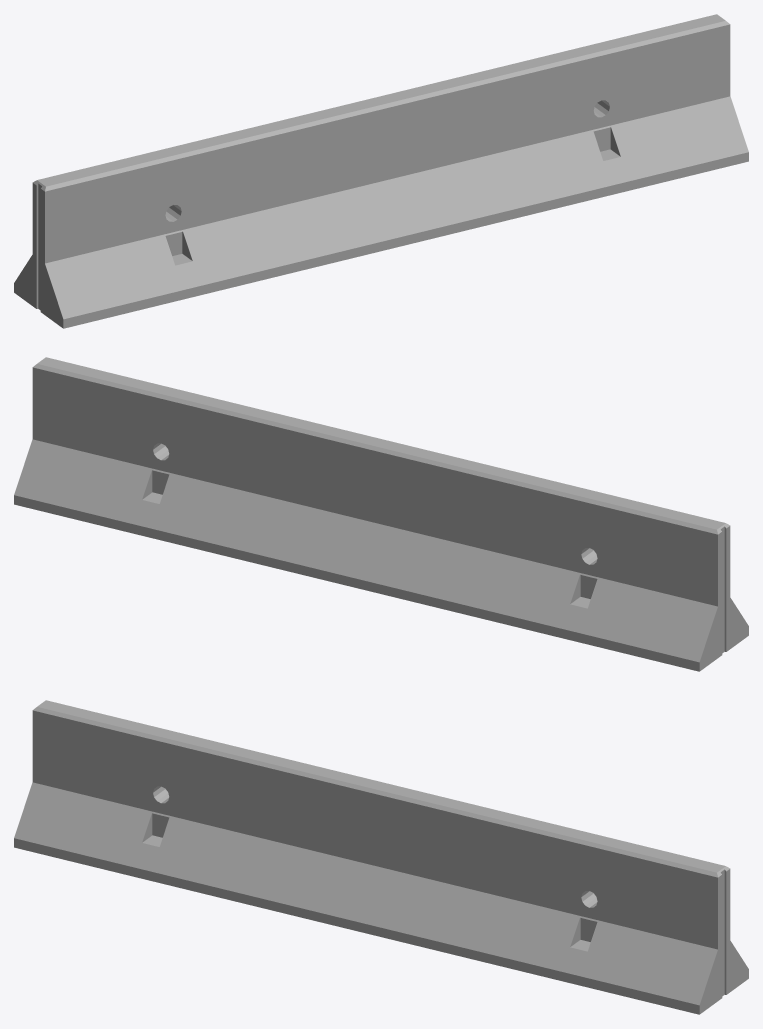
The model's file is LP_Concrete barrier.fbx.
The picture shows the model from 3 angles, top to bottom: view 1: azimuth 30°, elevation 25°; view 2: azimuth 150°, elevation 25°; view 3: azimuth 330°, elevation 25°; orthographic projection.
Visible parts, largest first — view 1: LP_Concrete barrier; view 2: LP_Concrete barrier; view 3: LP_Concrete barrier.
Boxes of the visible parts, x1,y1,x2,y2 form: LP_Concrete barrier: [14, 14, 748, 328]; LP_Concrete barrier: [14, 357, 748, 671]; LP_Concrete barrier: [14, 700, 748, 1014].
Size of the model in its own units: 5.18 by 0.9145 by 0.6472.
